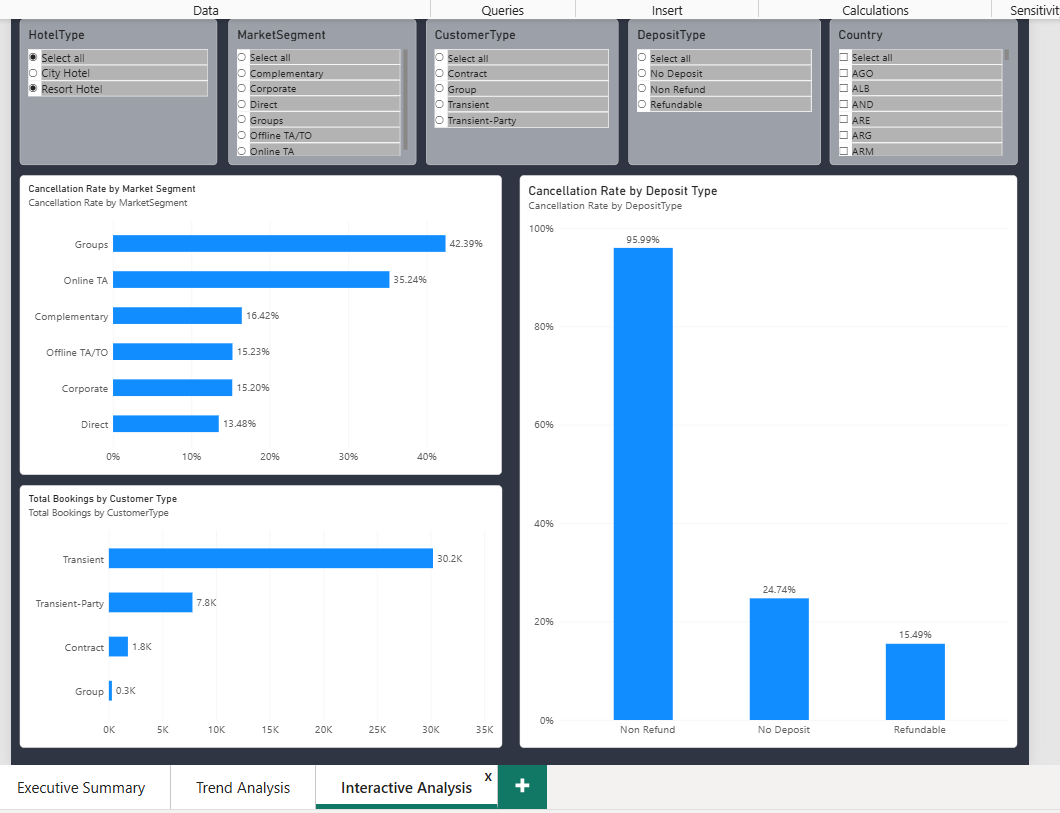

What the dashboard file says about the page in this screenshot:
{"tool":"powerbi","page":{"name":"Interactive Analysis","canvas":[1950,1430],"ordinal":2},"visuals":[{"type":"listSlicer","fields":{"Values":["mart BookingCancellationAnalysis.MarketSegment"]},"box":[416.9,0,360.2,279.9],"z":1000},{"type":"listSlicer","fields":{"Values":["mart BookingCancellationAnalysis.DepositType"]},"box":[1183.7,0,368.4,279.9],"z":2000},{"type":"listSlicer","fields":{"Values":["mart BookingCancellationAnalysis.CustomerType"]},"box":[795.5,0,368.4,279.9],"z":3000},{"type":"listSlicer","fields":{"Values":["mart BookingCancellationAnalysis.Country"]},"box":[1569.5,0,360.2,279.9],"z":4000},{"type":"clusteredBarChart","title":"Cancellation Rate by Market Segment","fields":{"Category":["mart BookingCancellationAnalysis.MarketSegment"],"Y":["mart BookingCancellationAnalysis.Cancellation Rate"]},"box":[16.8,299.5,924.3,574.7],"z":5000},{"type":"clusteredBarChart","title":"Total Bookings by Customer Type","fields":{"Category":["mart BookingCancellationAnalysis.CustomerType"],"Y":["mart BookingCancellationAnalysis.Total Bookings"]},"box":[16.8,893.8,924.9,503.2],"z":6000},{"type":"clusteredColumnChart","title":"Cancellation Rate by Deposit Type","fields":{"Category":["mart BookingCancellationAnalysis.DepositType"],"Y":["mart BookingCancellationAnalysis.Cancellation Rate"]},"box":[975.2,299.5,953.7,1097.4],"z":7000},{"type":"listSlicer","fields":{"Values":["mart BookingCancellationAnalysis.HotelType"]},"box":[16.8,0,378.6,280.3],"z":8000}]}

Visuals, with their boxes in screenshot pixels (x1, y1, x2, y2):
listSlicer - mart BookingCancellationAnalysis.MarketSegment: x1=218 y1=14 x2=411 y2=164
listSlicer - mart BookingCancellationAnalysis.DepositType: x1=629 y1=14 x2=827 y2=164
listSlicer - mart BookingCancellationAnalysis.CustomerType: x1=421 y1=14 x2=618 y2=164
listSlicer - mart BookingCancellationAnalysis.Country: x1=836 y1=14 x2=1029 y2=164
"Cancellation Rate by Market Segment" clusteredBarChart: x1=3 y1=174 x2=499 y2=482
"Total Bookings by Customer Type" clusteredBarChart: x1=3 y1=493 x2=499 y2=763
"Cancellation Rate by Deposit Type" clusteredColumnChart: x1=517 y1=174 x2=1029 y2=763
listSlicer - mart BookingCancellationAnalysis.HotelType: x1=3 y1=14 x2=206 y2=164
